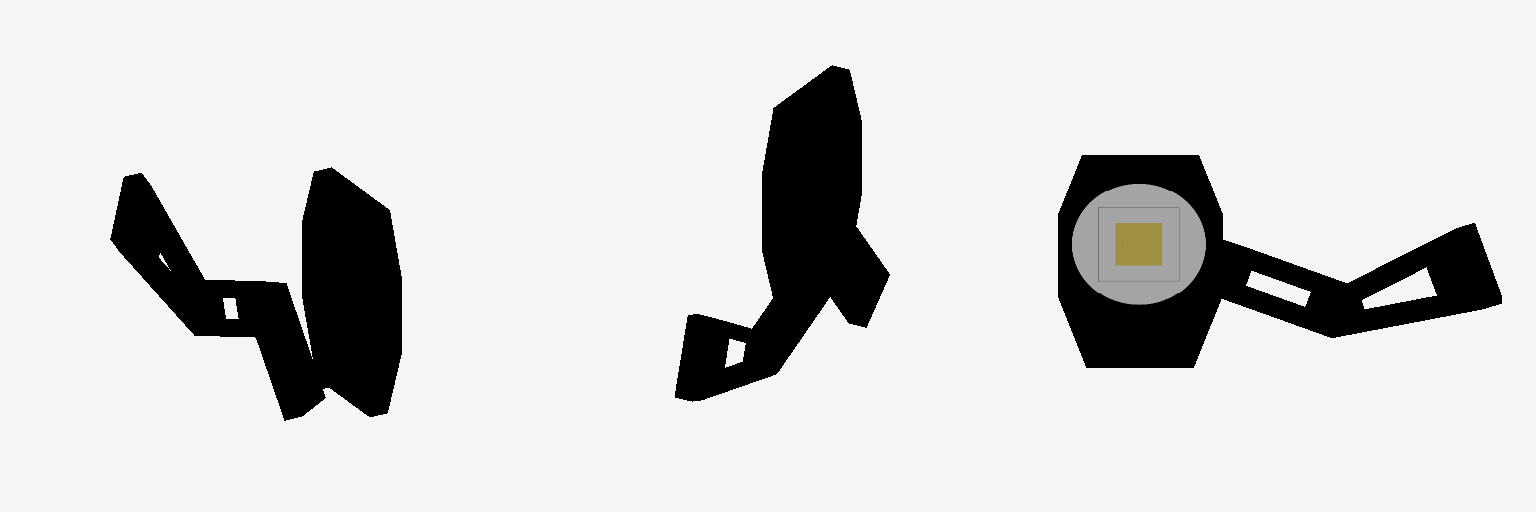
3 renders of one model, left to right at view 1: azimuth 30°, elevation 25°; view 2: azimuth 150°, elevation 25°; view 3: azimuth 270°, elevation 25°, orthographic.
Parts seen in each view (by area): view 1: LightL; view 2: LightL; view 3: LightL.
Boxes of the visible parts, x1=… form: LightL: x1=110, y1=167, x2=401, y2=420; LightL: x1=675, y1=65, x2=889, y2=401; LightL: x1=1058, y1=155, x2=1501, y2=367.
Size of the model in its own units: 0.0394 by 0.118 by 0.2157.
Materials: 1 (1 with a texture image).